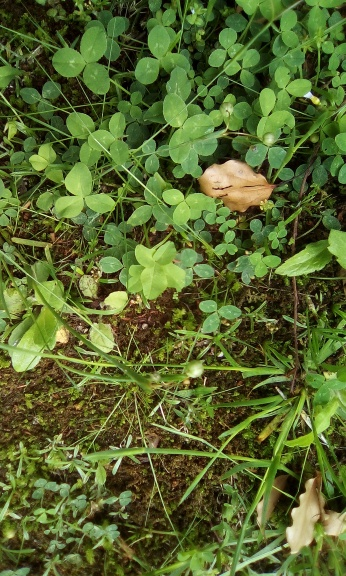4leaf: (134, 241, 186, 300)
